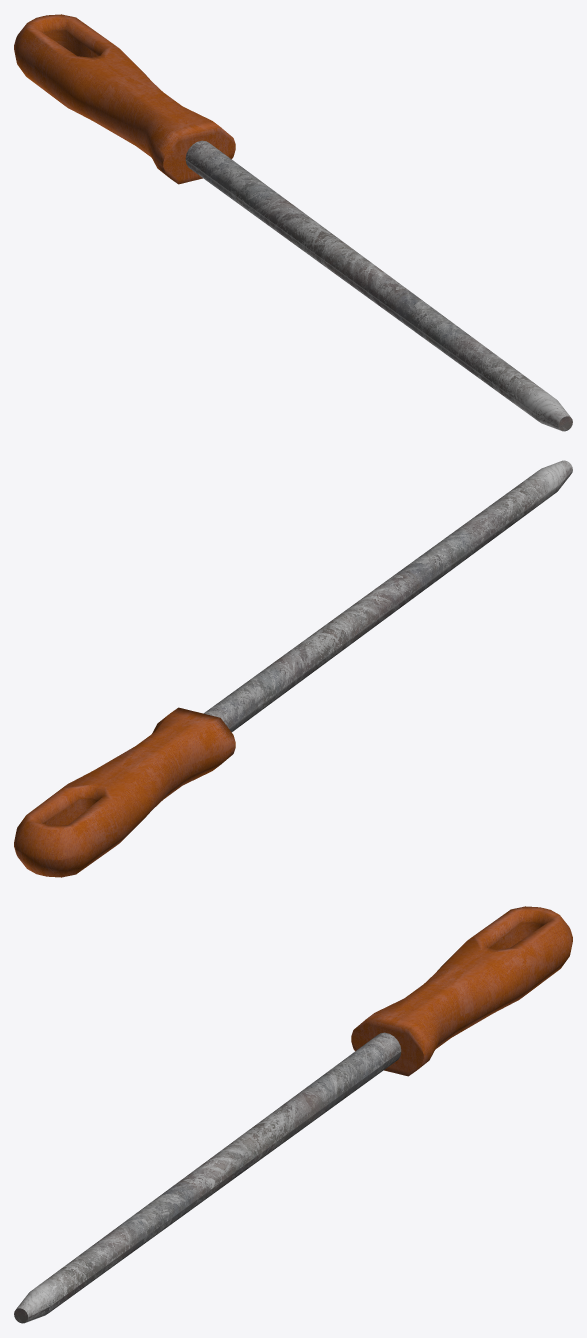
Rendered from Rasp01_1.FBX.
The picture shows the model from 3 angles, top to bottom: view 1: azimuth 30°, elevation 25°; view 2: azimuth 150°, elevation 25°; view 3: azimuth 330°, elevation 25°; orthographic projection.
Parts seen in each view (by area): view 1: Rasp01_1_LOD0; view 2: Rasp01_1_LOD0; view 3: Rasp01_1_LOD0.
Boxes of the visible parts, x1=… form: Rasp01_1_LOD0: x1=14, y1=14, x2=572, y2=431; Rasp01_1_LOD0: x1=14, y1=460, x2=572, y2=877; Rasp01_1_LOD0: x1=14, y1=906, x2=572, y2=1323.
Size of the model in its own units: 1.58 by 0.9809 by 20.06.
